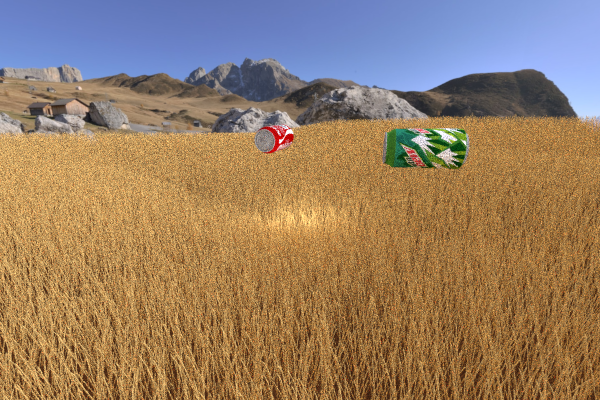bottle: (0, 121, 438, 400)
can: (382, 128, 469, 169), (254, 124, 293, 153)
